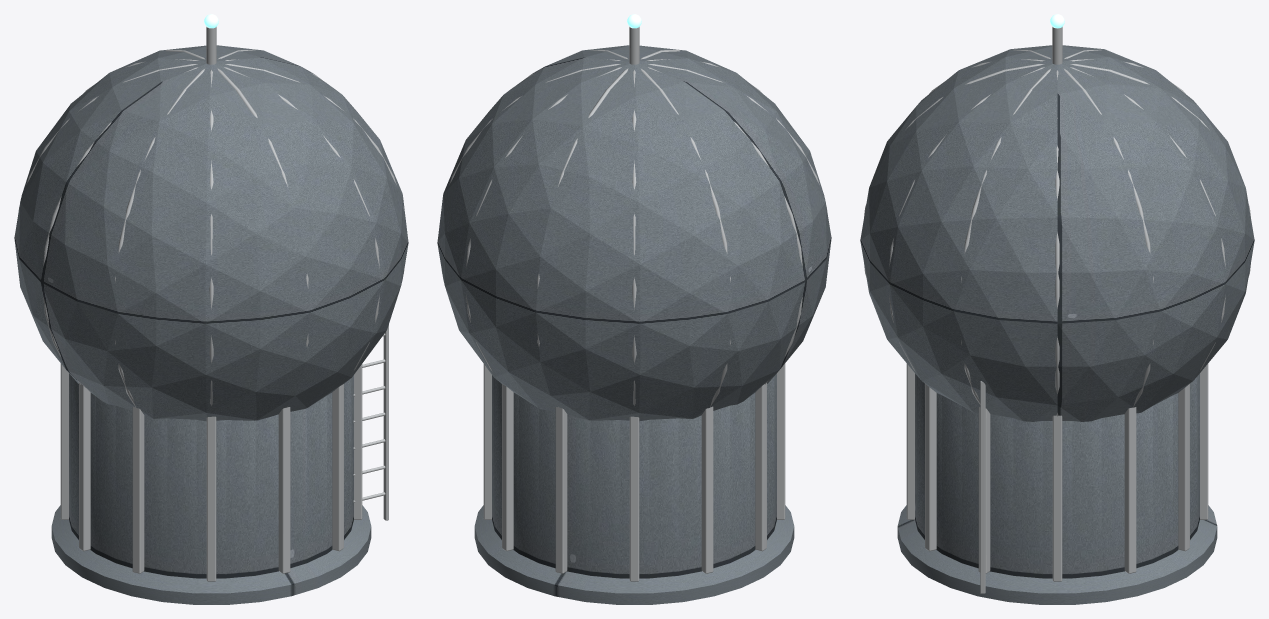
The picture shows the model from 3 angles, left to right: view 1: azimuth 30°, elevation 25°; view 2: azimuth 150°, elevation 25°; view 3: azimuth 270°, elevation 25°; orthographic projection.
Visible parts, largest first — view 1: radar-dome; view 2: radar-dome; view 3: radar-dome.
Boxes of the visible parts, left/top/right/bottom form: radar-dome: left=14, top=14, right=408, bottom=604; radar-dome: left=437, top=14, right=831, bottom=604; radar-dome: left=860, top=14, right=1254, bottom=604.
Bounding box in the file's own units: 3.7 × 5.42 × 3.7.
4 materials, 2 textured.
